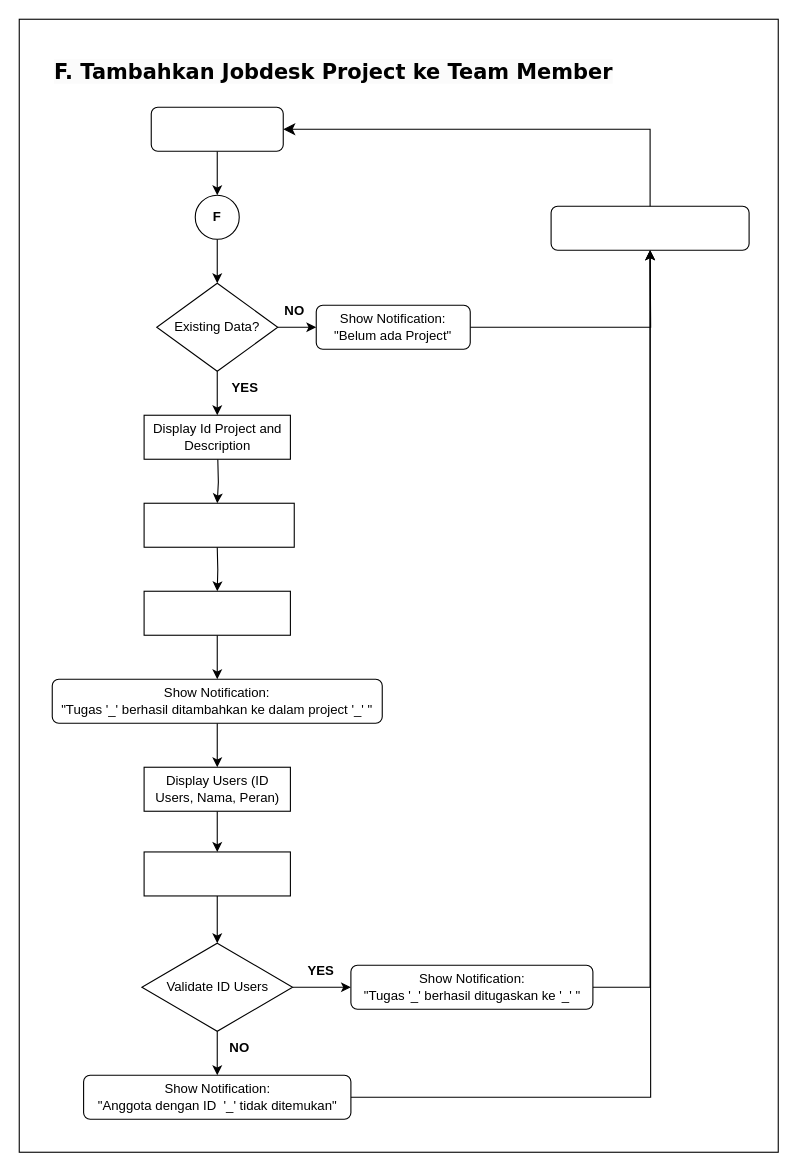
Image size: 798x1172. Some labels were removed from this diagram. The shapes that lost their labels are listed below. From the top down, each one's box as (x1, y1, x2, y2) in pixels, then its label:
(150, 106, 283, 151): Main Menu
(550, 205, 749, 250): Show Notification: "Klik Enter untuk melanjutkan"
(143, 502, 294, 547): User Input Primary Key to Update (ID Project)
(143, 590, 290, 635): User Input Task Title and Description
(143, 851, 290, 896): User Input Primary Key to Update (ID Users)
